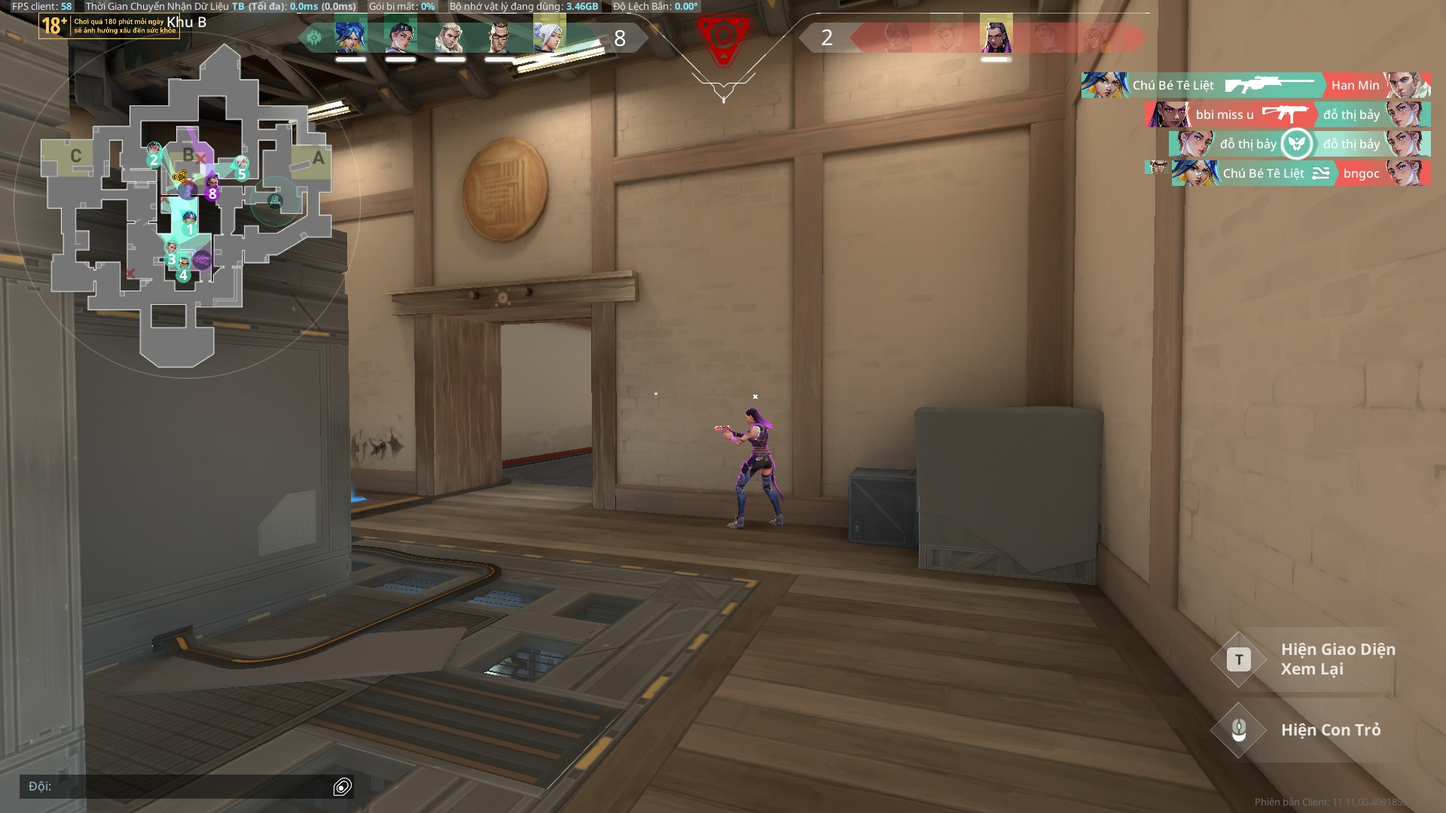body: (746, 423, 770, 452)
head: (743, 408, 760, 425)
